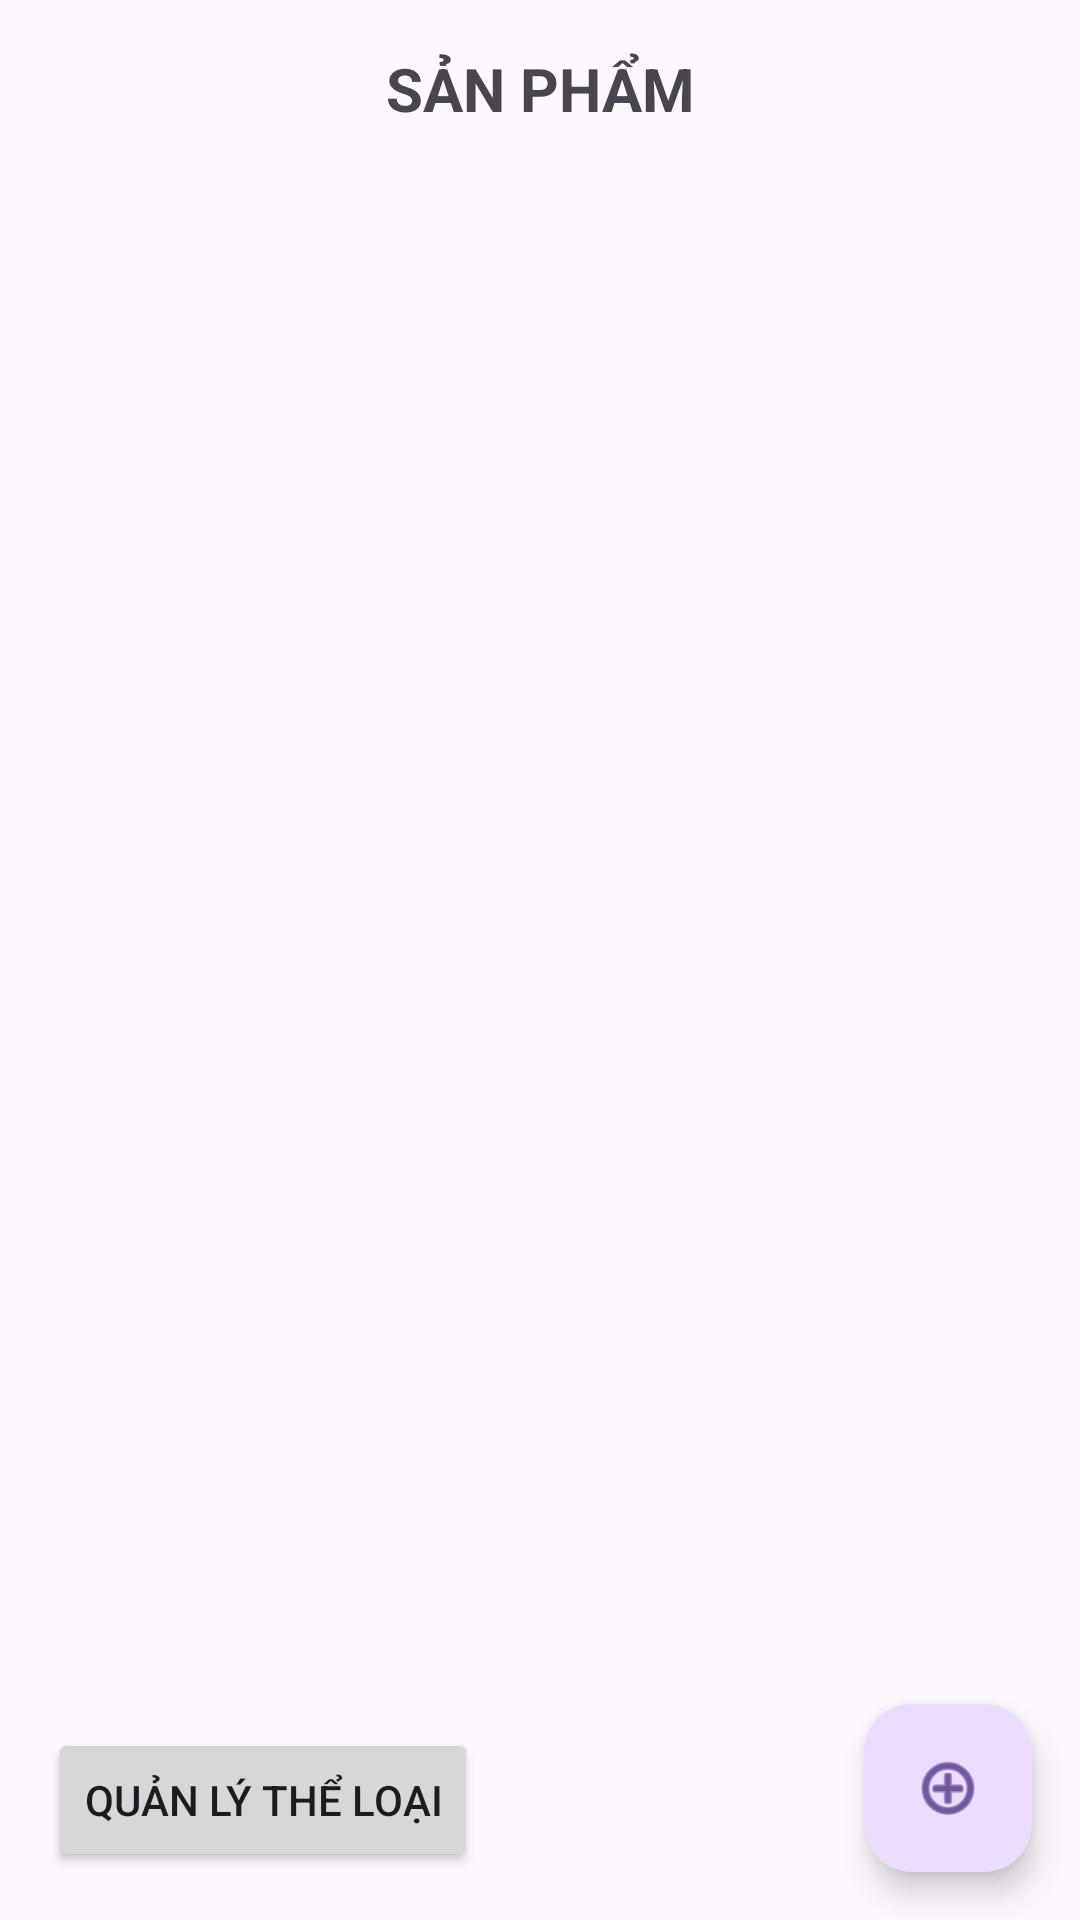

Icon click points for this 1080*1920 phone screenshot, format [x,y]:
Thêm sản phẩm: [948,1788]
